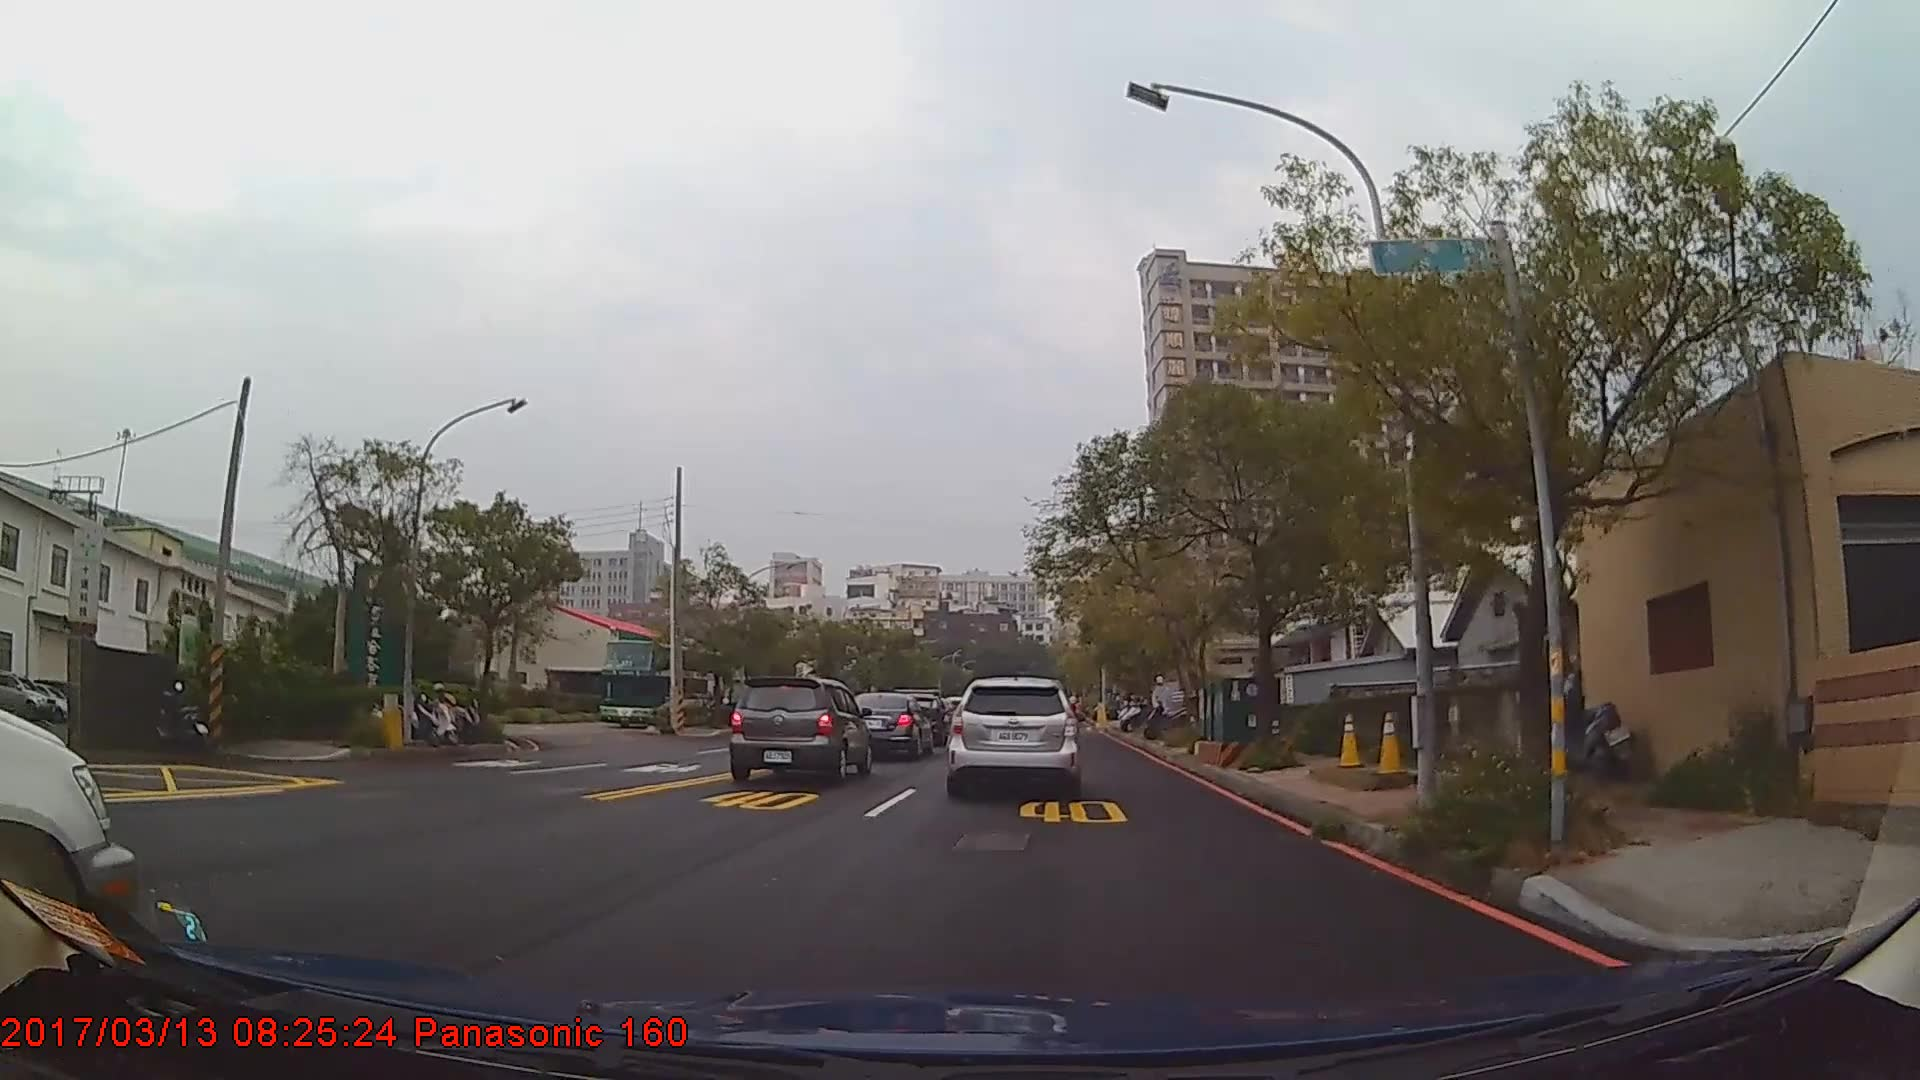vehicle: (0, 705, 135, 964), (945, 676, 1080, 795), (727, 674, 873, 781), (599, 638, 732, 731), (844, 691, 934, 757)
